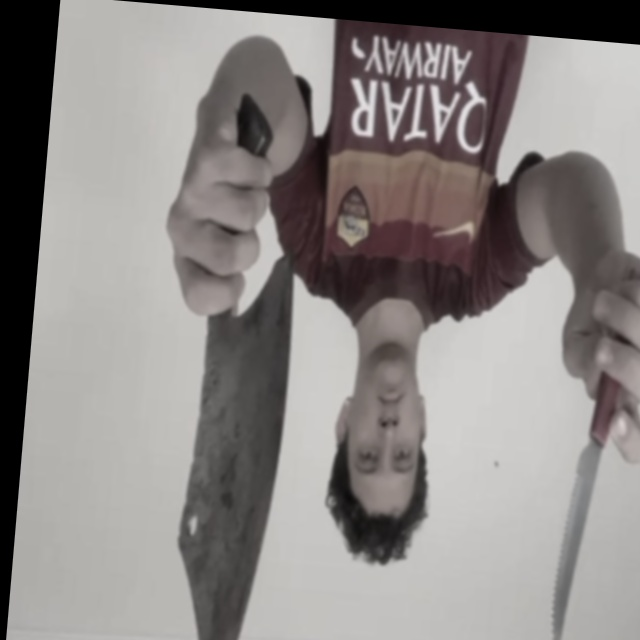Sharp-Object: (163, 246, 302, 640), (543, 443, 608, 640)
